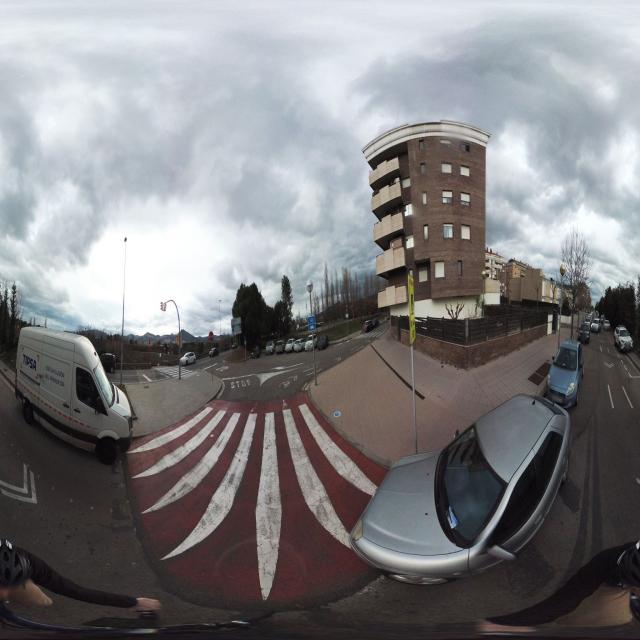forb_stopping: (345, 310, 348, 315)
